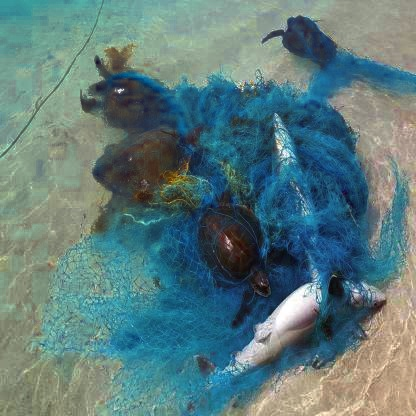net: (128, 79, 363, 355)
